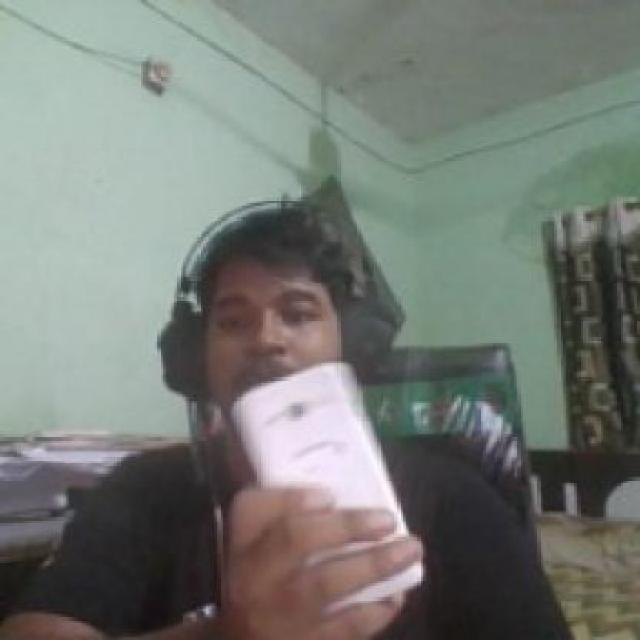Phone: (231, 358, 428, 610)
